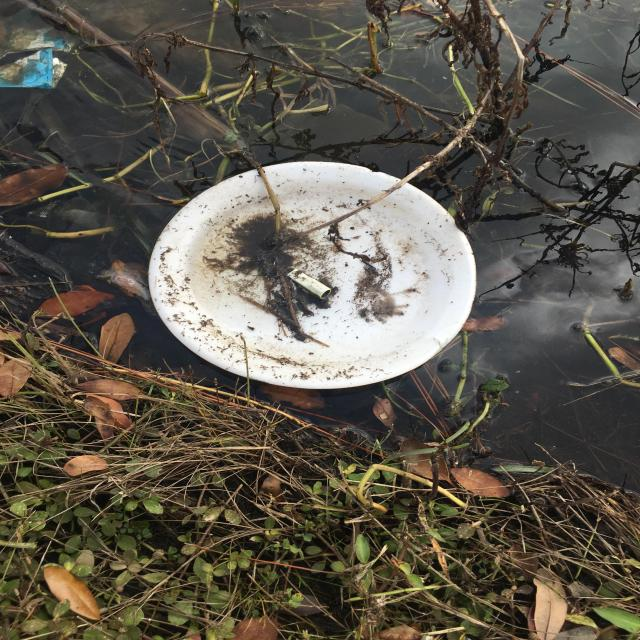litter: (148, 160, 477, 389), (0, 7, 77, 89), (287, 268, 332, 299)
